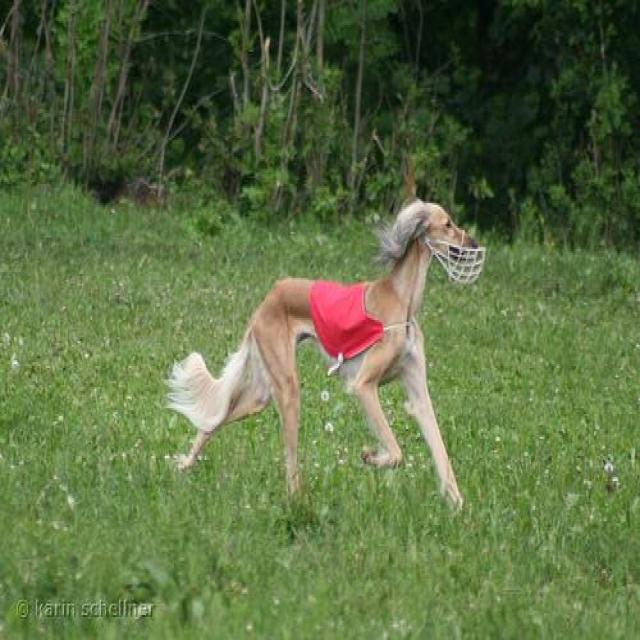saluki: (169, 186, 488, 513)
